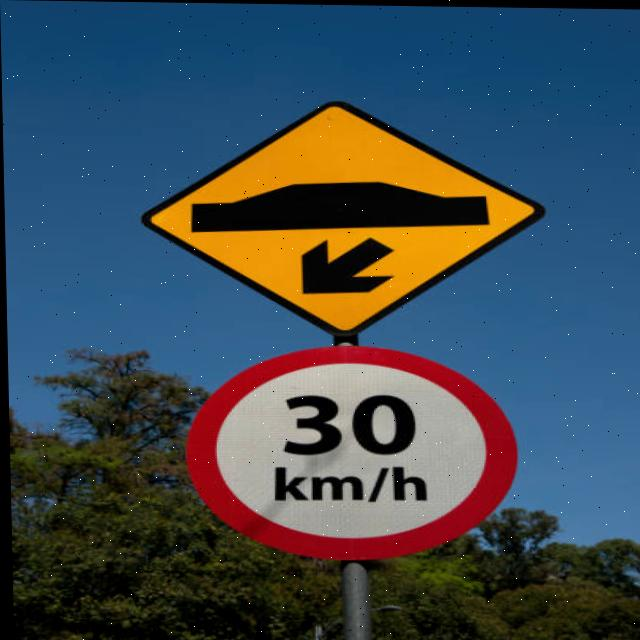Speed limit 30: (179, 341, 521, 564)
